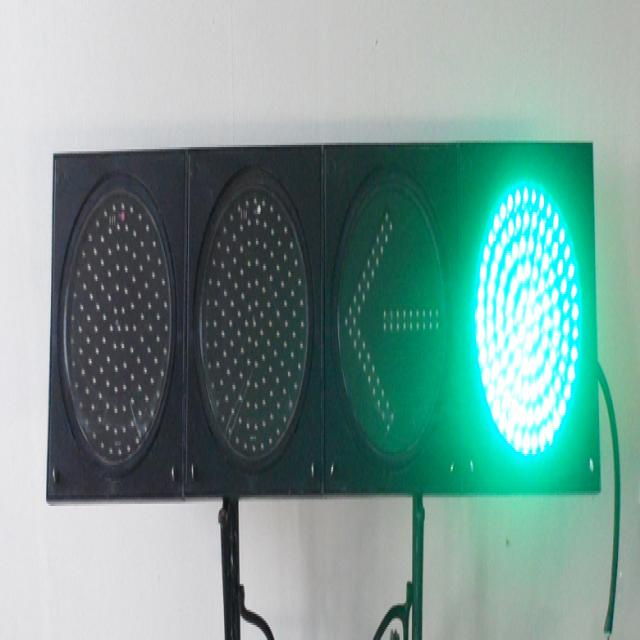Green Light: (463, 154, 597, 488)
